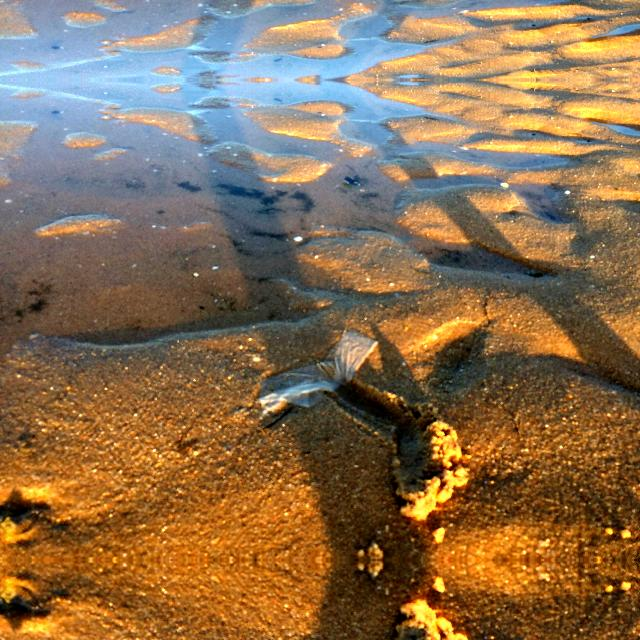Plastic: (250, 324, 408, 452)
